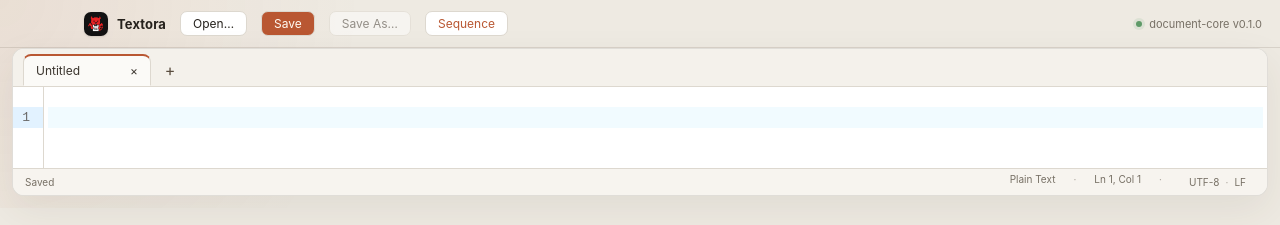
Test case: App open flow › syncs readonly metadata on a dirty tab while preserving local edits
The width and height of the screenshot is (1280, 225).
Click the button with class "open-button". click: (214, 24)
box: [180,11,247,36]
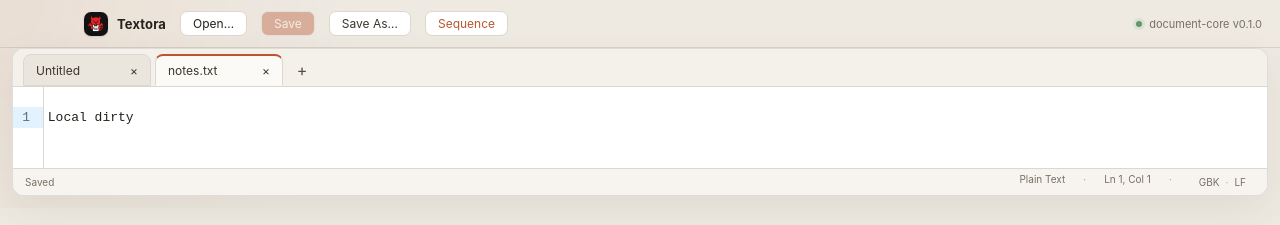
Clear the field with class "cm-content". click: (91, 118)
box: [48,110,134,125]
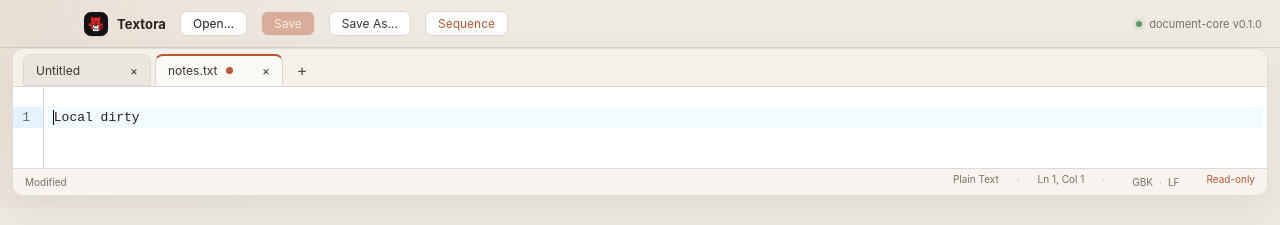
Expected: the text with class "readonly-badge" reads "Read-only", [1206,173,1255,185]
Expected: the footer with class "statusbar" shows "Modified", [25,176,67,188]
